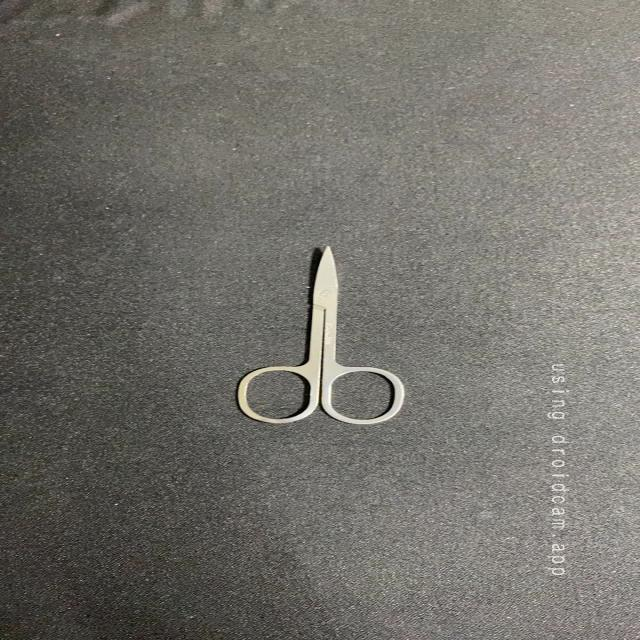scissor: (231, 240, 408, 429)
